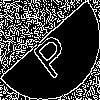P: (25, 25, 76, 82)
